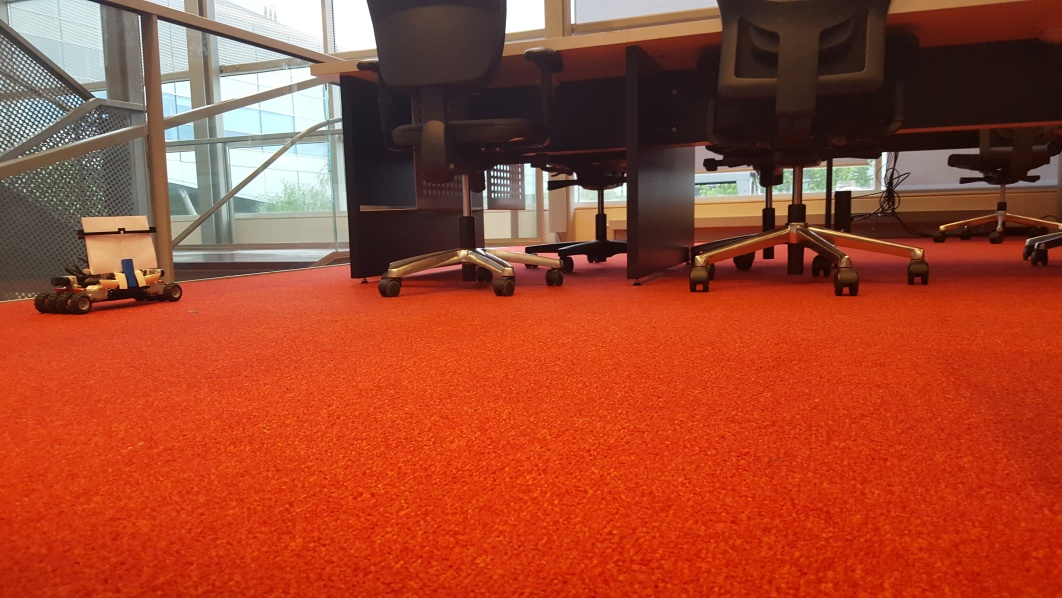car: (32, 215, 183, 314)
